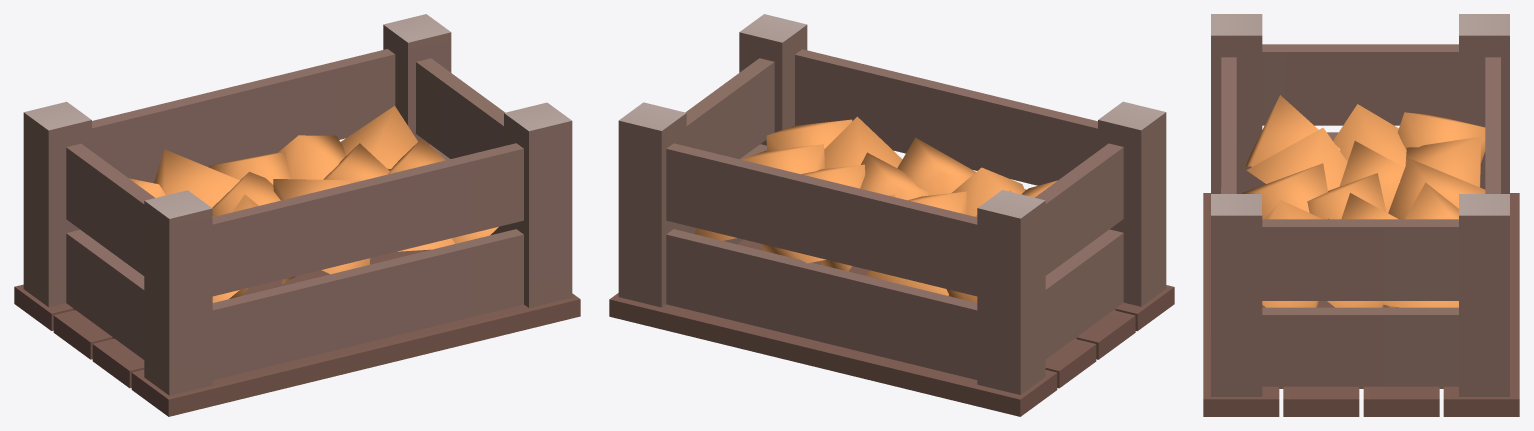
File: n4_box_003_lev4.001.glb
3 renders of one model, left to right at view 1: azimuth 30°, elevation 25°; view 2: azimuth 150°, elevation 25°; view 3: azimuth 270°, elevation 25°, orthographic. The views are drawn at different scales.
Parts seen in each view (by area): view 1: n4_box_003_lev4.001; view 2: n4_box_003_lev4.001; view 3: n4_box_003_lev4.001.
Boxes of the visible parts, box(x1,y1,x2,y2) form: n4_box_003_lev4.001: box(14, 14, 580, 416); n4_box_003_lev4.001: box(609, 14, 1174, 416); n4_box_003_lev4.001: box(1203, 14, 1519, 416).
Bounding box in the file's own units: 1.32 × 0.5963 × 0.859.
Materials: 1 (1 with a texture image).
